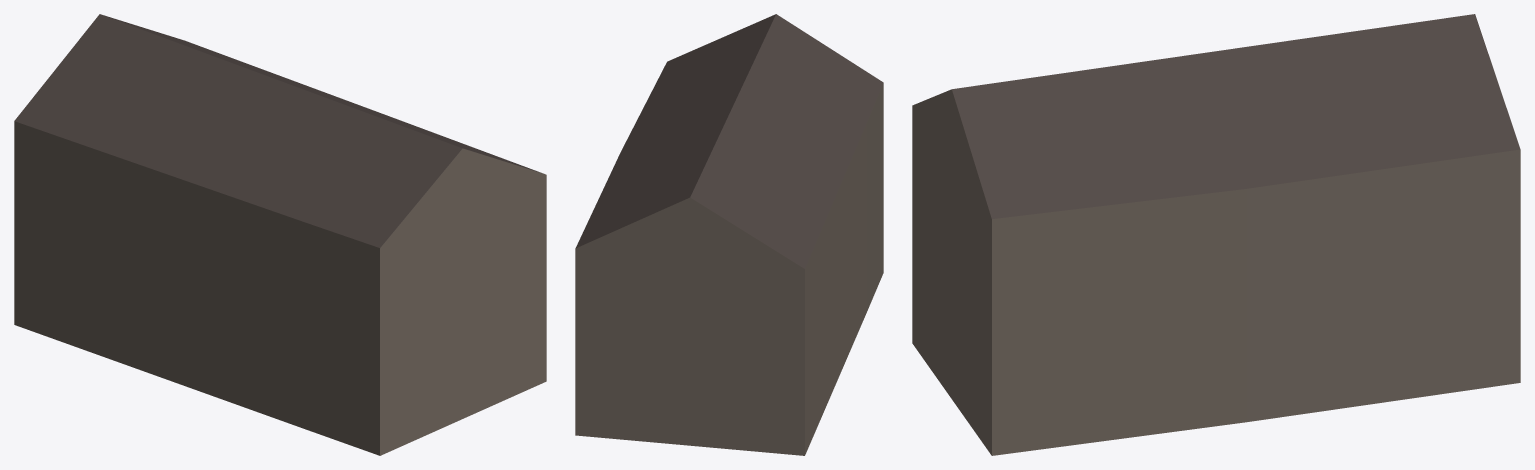
3 renders of one model, left to right at view 1: azimuth 30°, elevation 25°; view 2: azimuth 150°, elevation 25°; view 3: azimuth 270°, elevation 25°, orthographic. The views are drawn at different scales.
Visible parts, largest first — view 1: HP-w1198645078; view 2: HP-w1198645078; view 3: HP-w1198645078.
Part boxes in pixels (bbox=[...]): HP-w1198645078: bbox=[14, 14, 546, 455]; HP-w1198645078: bbox=[575, 14, 883, 455]; HP-w1198645078: bbox=[912, 14, 1520, 455].
Size of the model in its own units: 10.52 by 7.97 by 14.17.
